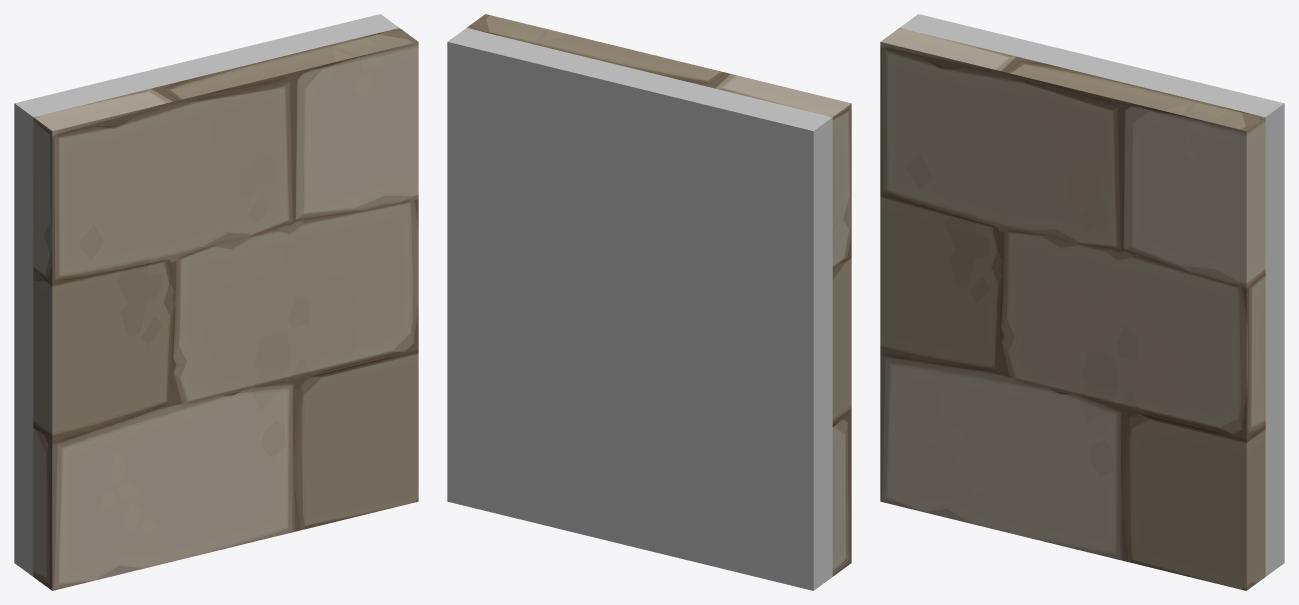
File: SM_Bld_Wall_Quarter_01.fbx
3 renders of one model, left to right at view 1: azimuth 30°, elevation 25°; view 2: azimuth 150°, elevation 25°; view 3: azimuth 330°, elevation 25°, orthographic.
Parts seen in each view (by area): view 1: SM_Bld_Wall_Quarter_01; view 2: SM_Bld_Wall_Quarter_01; view 3: SM_Bld_Wall_Quarter_01.
Boxes of the visible parts, <box> form: SM_Bld_Wall_Quarter_01: <box>14,14,418,590</box>; SM_Bld_Wall_Quarter_01: <box>447,14,851,590</box>; SM_Bld_Wall_Quarter_01: <box>880,14,1284,590</box>.
Size of the model in its own units: 125 by 150 by 22.5.
